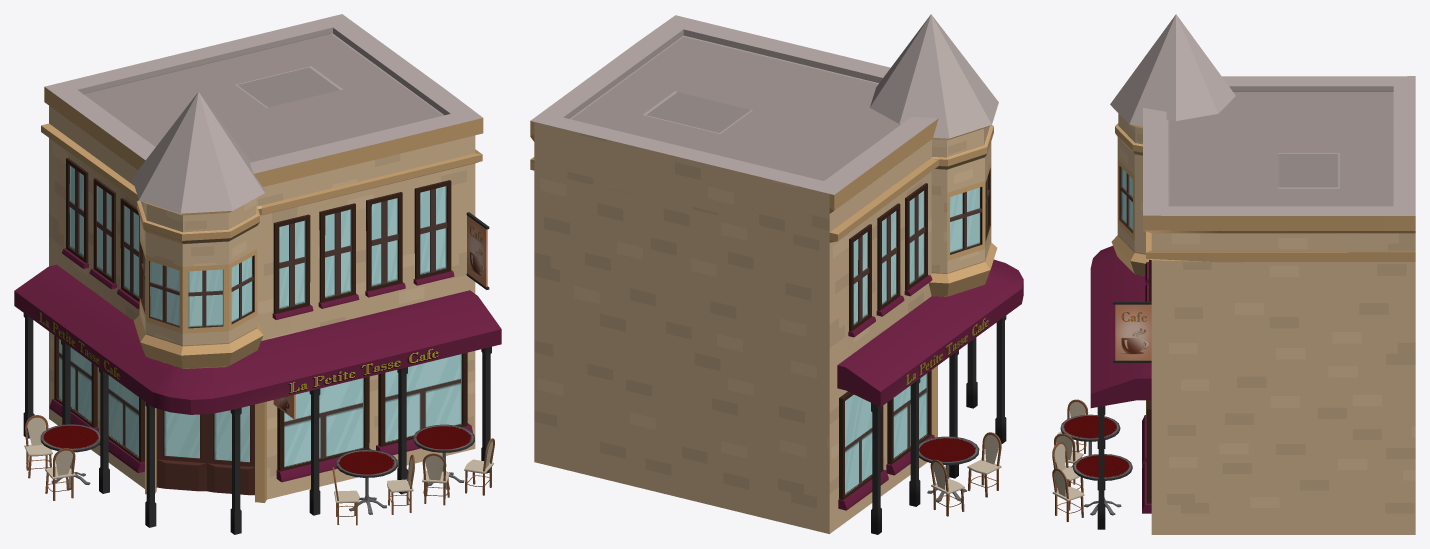
Rendered from french_bistro.fbx.
3 views of the same model, side by side, from view 1: azimuth 30°, elevation 25°; view 2: azimuth 150°, elevation 25°; view 3: azimuth 270°, elevation 25° (orthographic). The views are drawn at different scales.
Parts seen in each view (by area): view 1: bistro; view 2: bistro; view 3: bistro.
Part boxes in pixels (x1,y1,x2,y2): bistro: [14, 14, 501, 534]; bistro: [530, 14, 1023, 534]; bistro: [1052, 14, 1415, 534].
Size of the model in its own units: 9.89 by 10.37 by 8.6.
